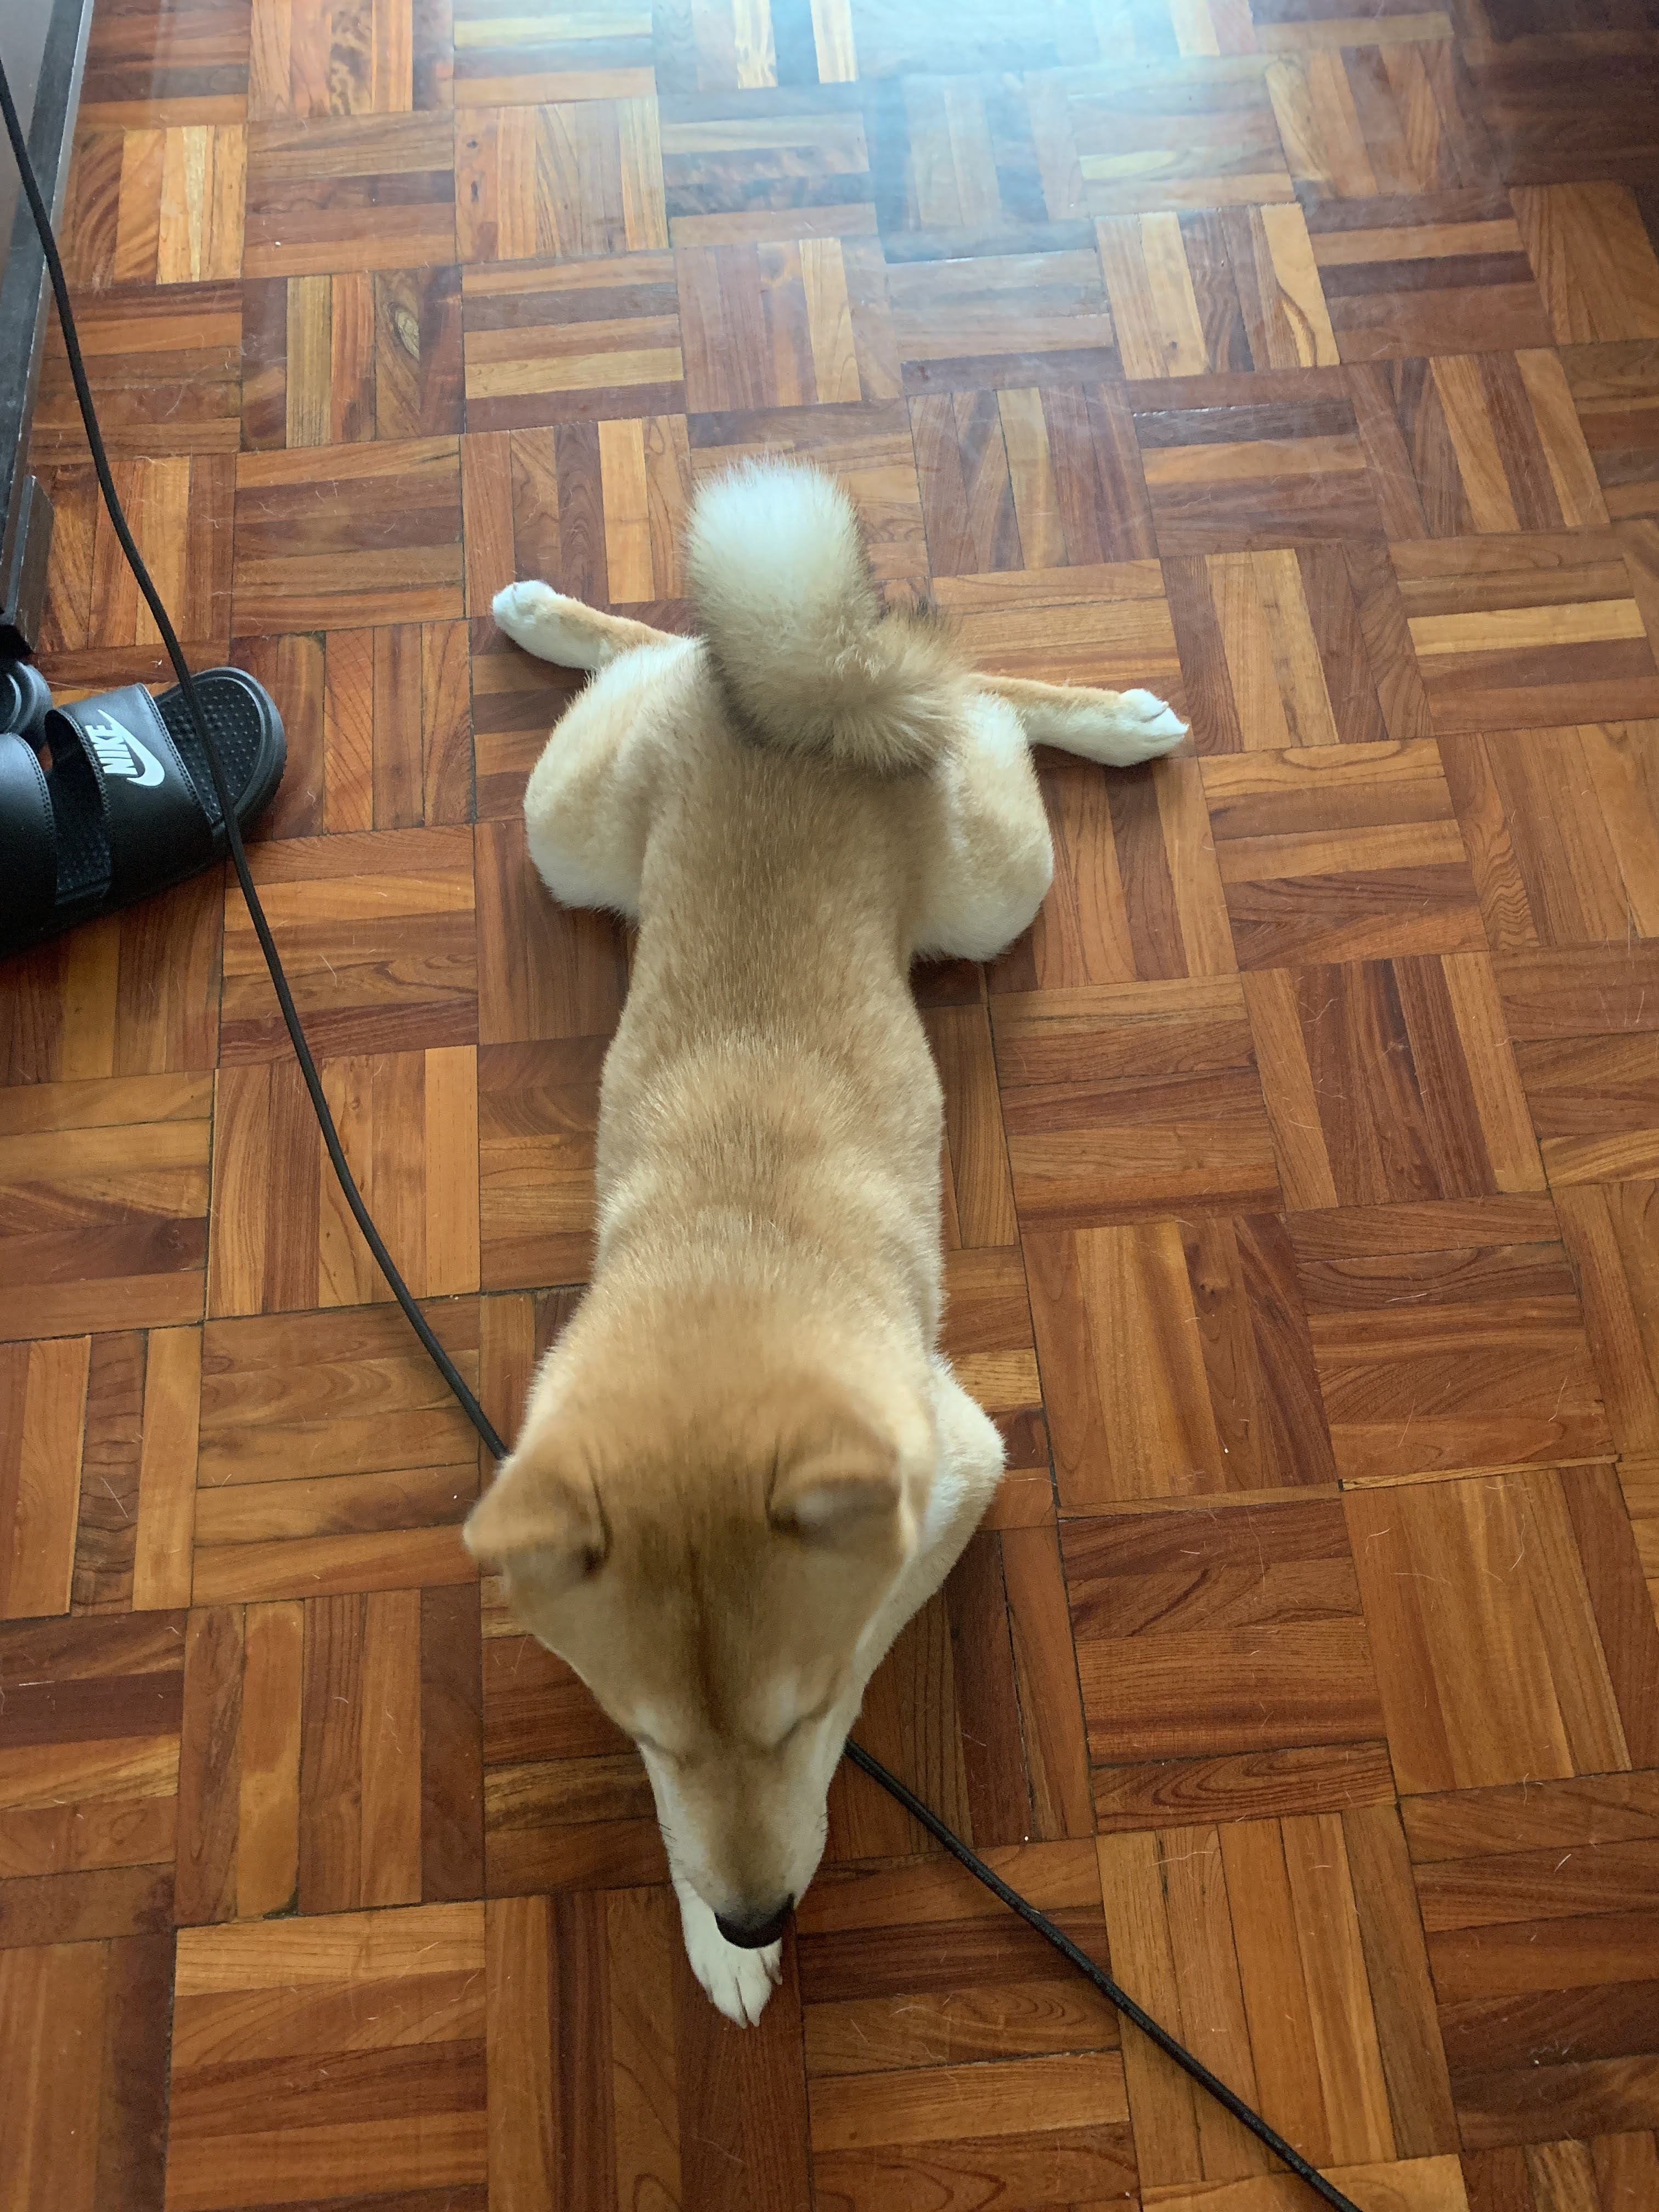Get down: (469, 486, 1190, 2083)
